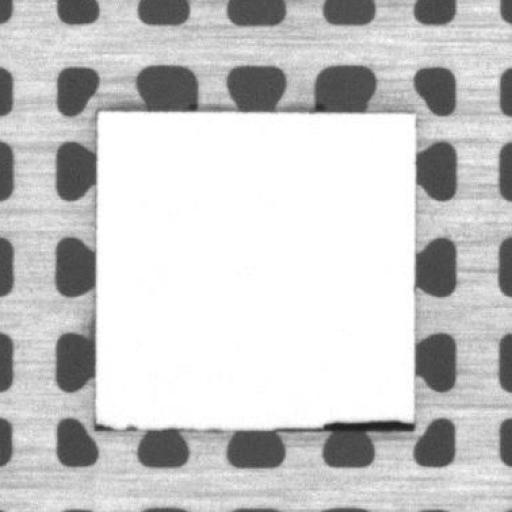DIE_BROKEN: (318, 414, 417, 434)
